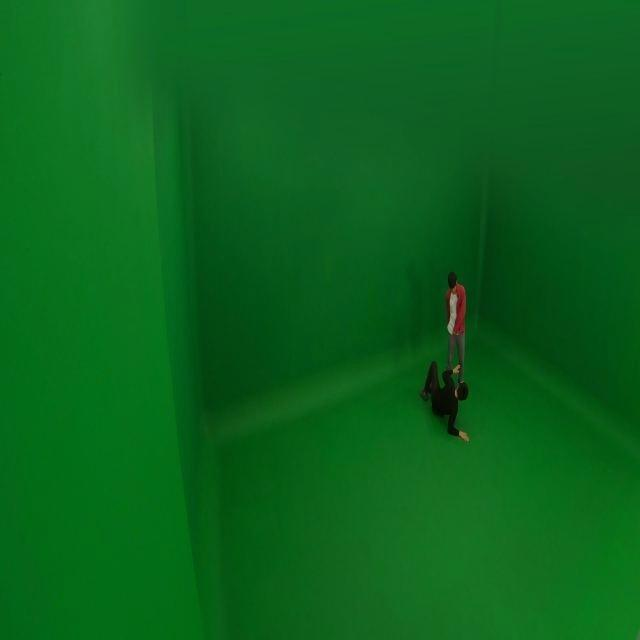fight: (418, 268, 470, 438)
